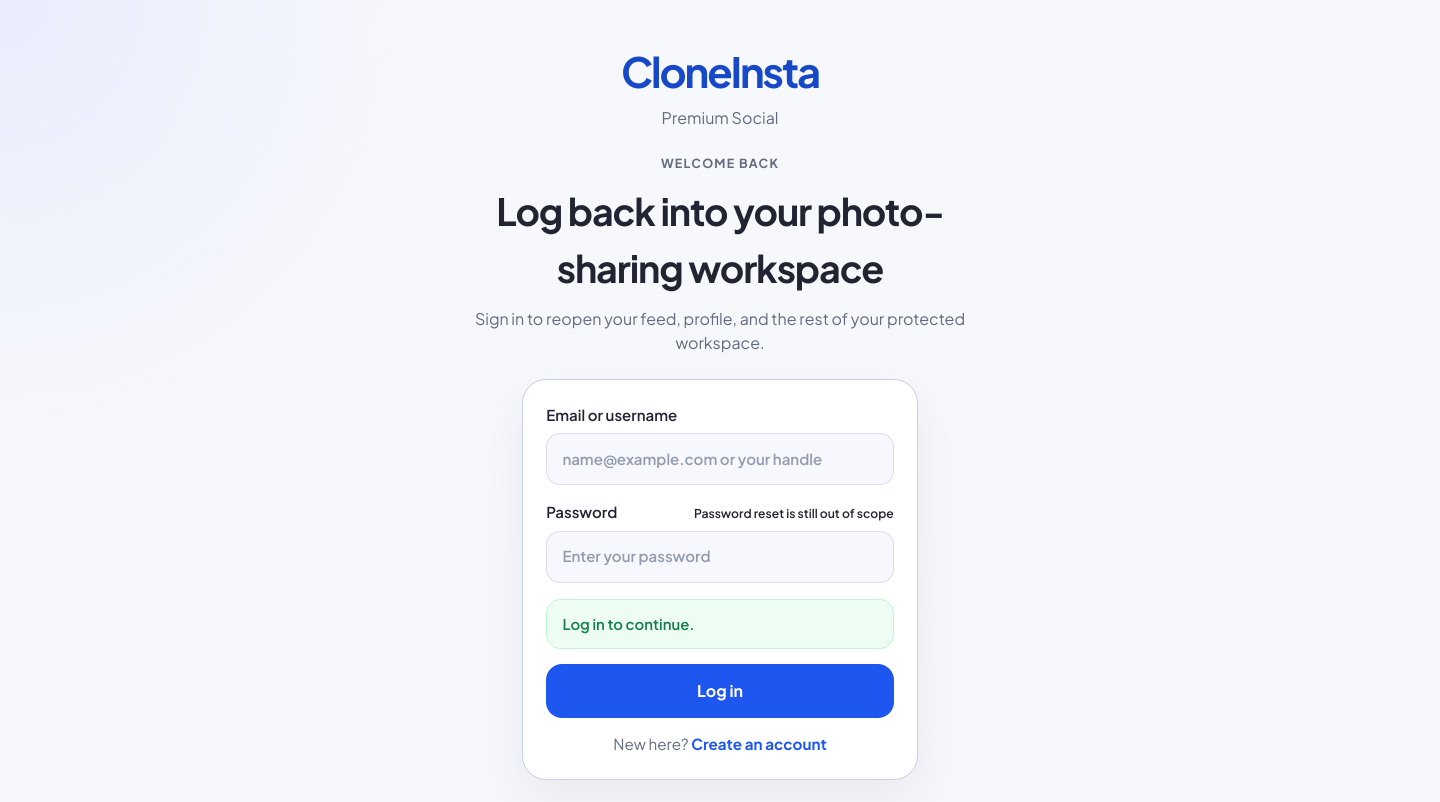
Test: App › returns a guest to the originally requested protected search route after login
Expected: the heading "Log back into your photo-sharing workspace" is shown, [460,184,980,296]
In the field labelled "Email or username": (720, 459) [546,433,894,485], type "alice_demo"
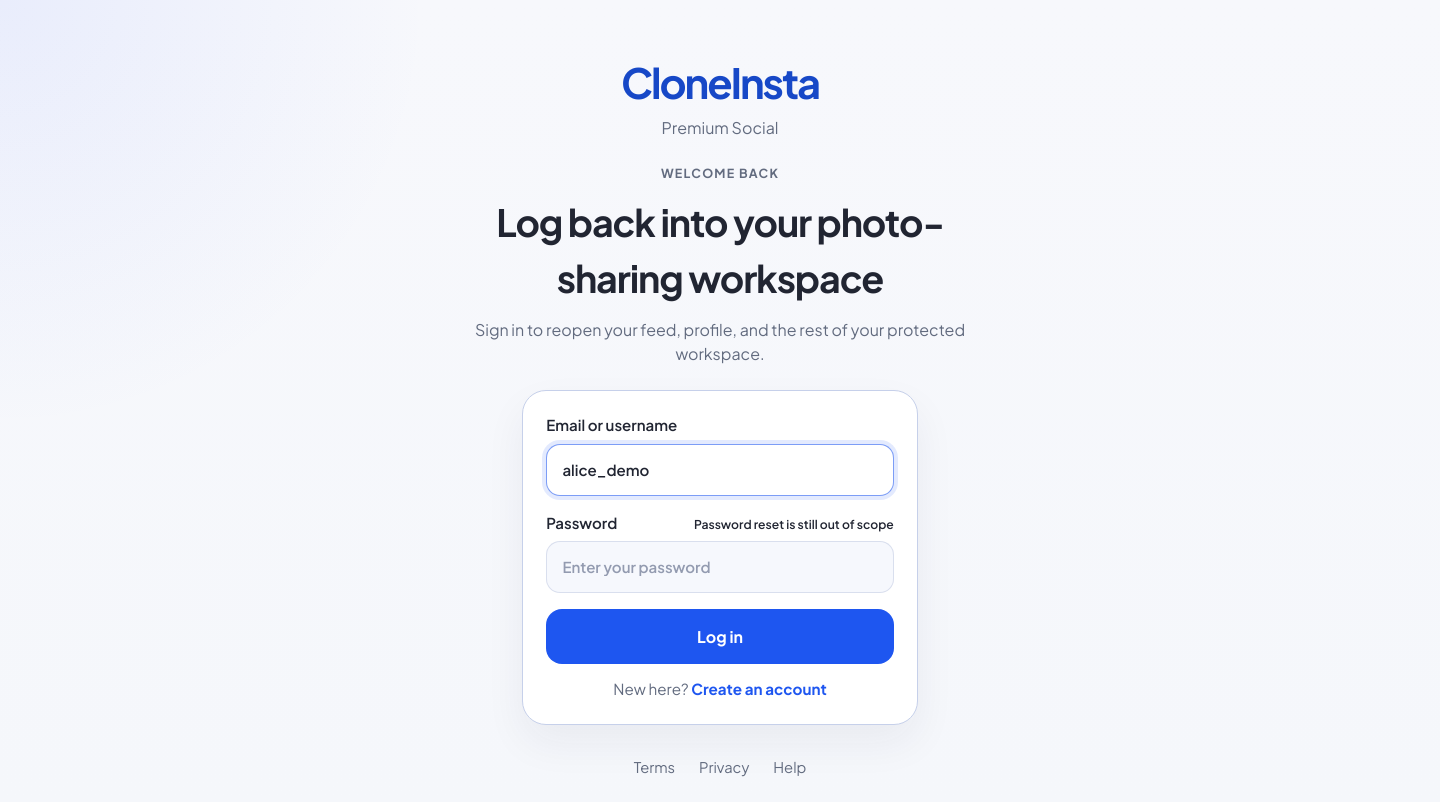
In the password field labelled "Password Password reset is still out of scope": (720, 567) [546,542,894,593], type "UserDemo123!"
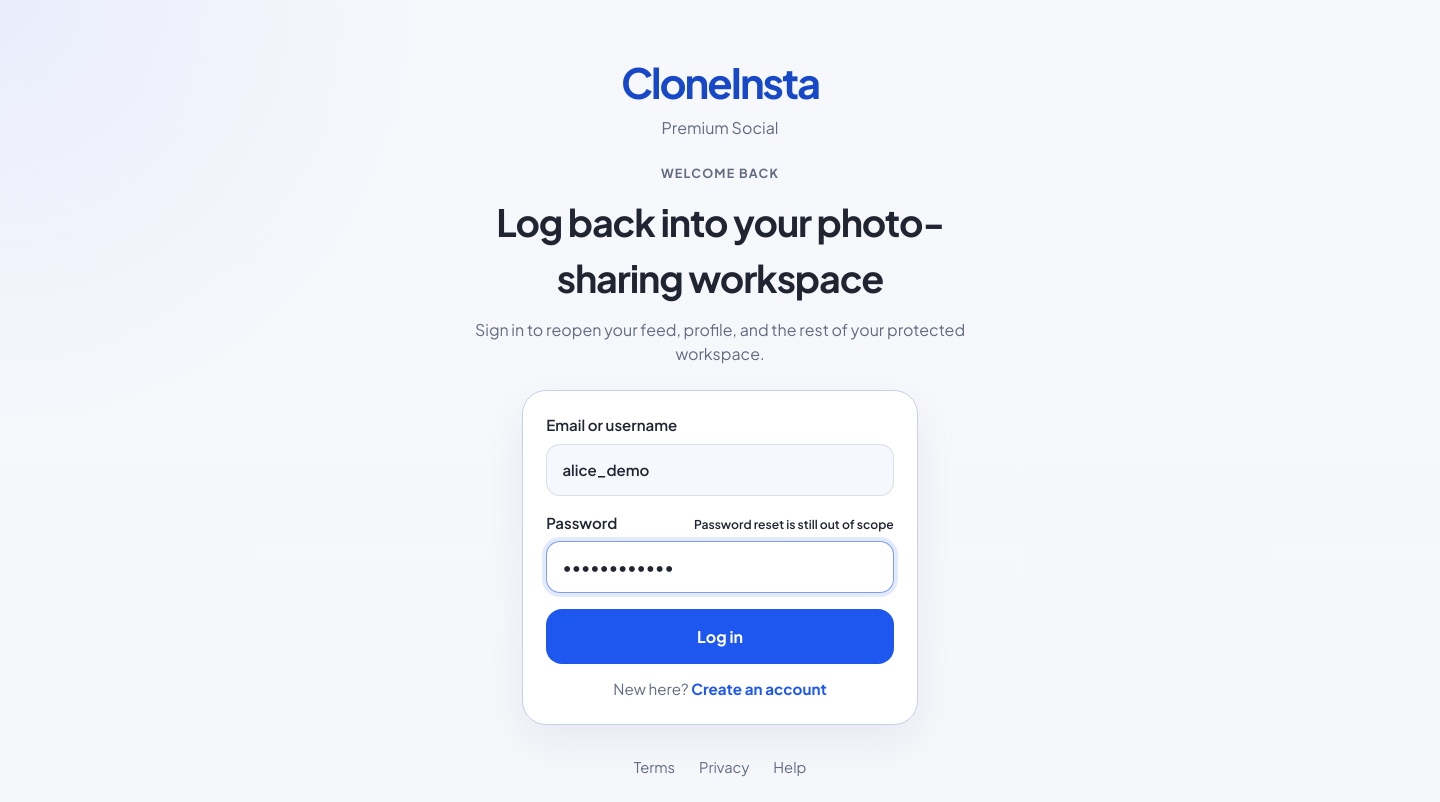
Click the button "Log in": (720, 637) [546,609,894,664]
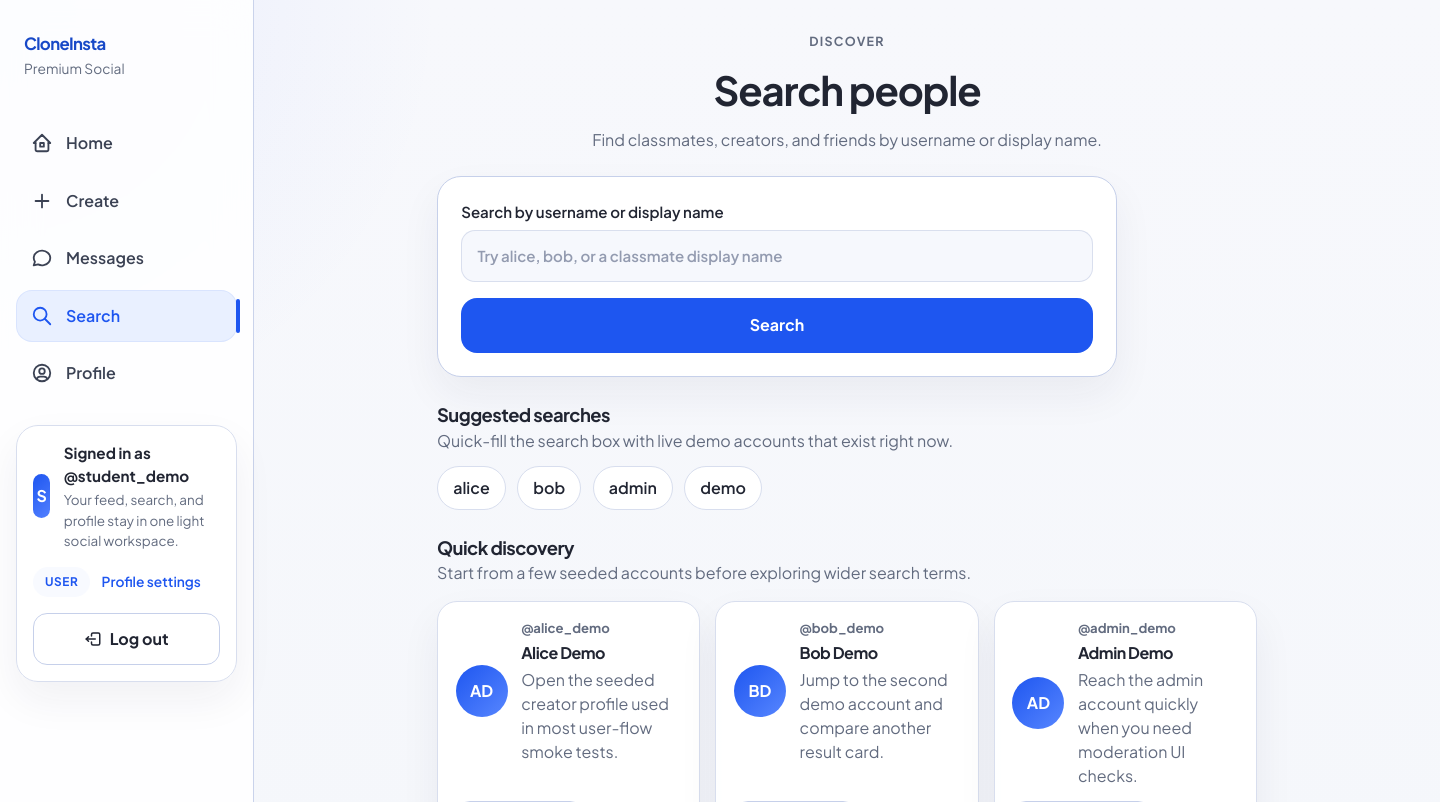
Expected: the heading "Search people" is shown, [714,64,980,114]
